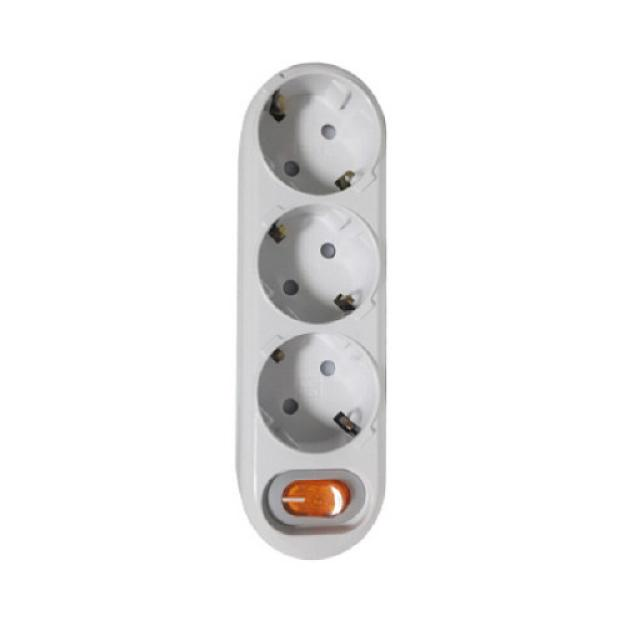typeb: (180, 60, 464, 610)
